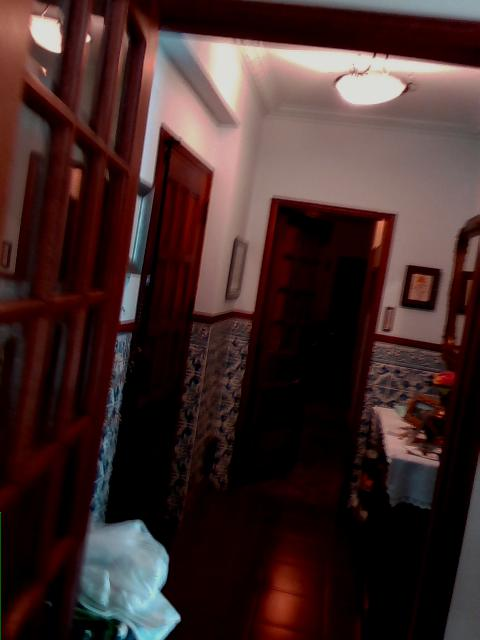semi_door: (226, 196, 399, 528)
